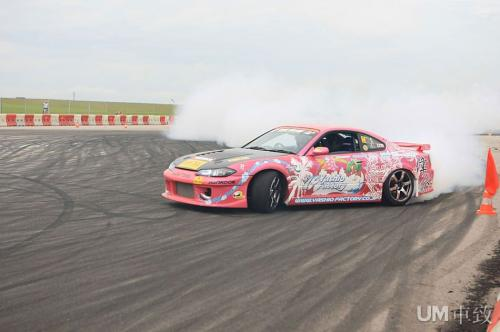smoke: (212, 40, 486, 143)
